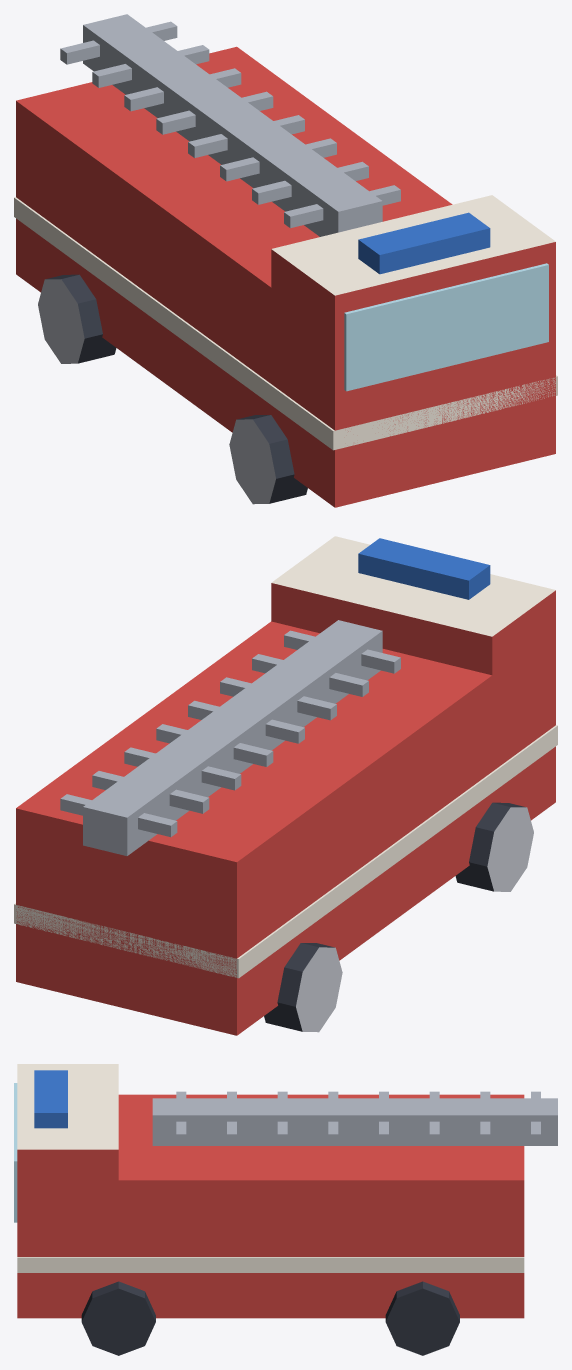
Rendered from vehicle_fire_truck.glb.
3 renders of one model, top to bottom at view 1: azimuth 30°, elevation 25°; view 2: azimuth 150°, elevation 25°; view 3: azimuth 270°, elevation 25°, orthographic. The views are drawn at different scales.
Parts seen in each view (by area): view 1: vehicle_fire_truck; view 2: vehicle_fire_truck; view 3: vehicle_fire_truck.
Part boxes in pixels (x1,y1,x2,y2): vehicle_fire_truck: [14, 14, 557, 507]; vehicle_fire_truck: [14, 536, 557, 1035]; vehicle_fire_truck: [14, 1064, 557, 1355].
Bounding box in the file's own units: 0.14 × 0.14 × 0.322.
